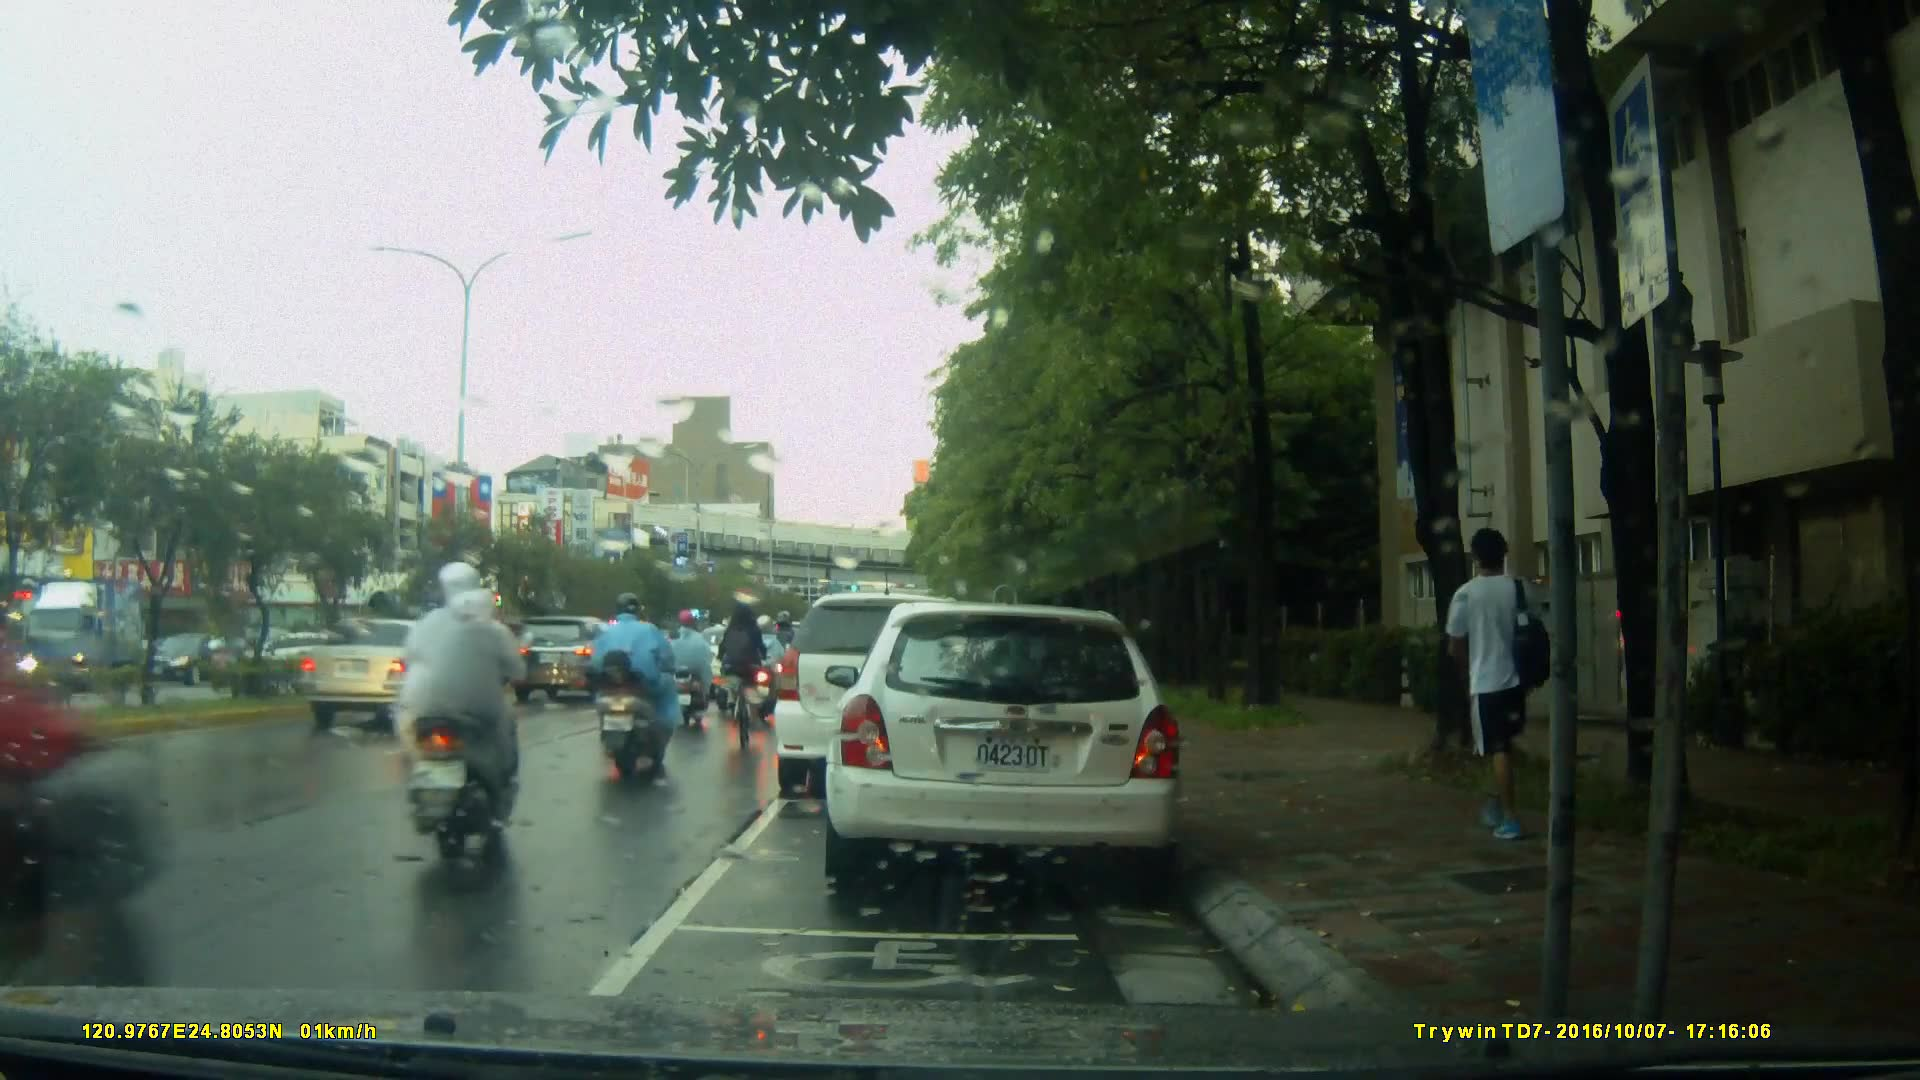pedestrian: (1454, 514, 1566, 874)
rider: (1, 622, 170, 1072), (399, 566, 532, 870), (596, 596, 683, 777), (388, 596, 461, 777), (717, 601, 771, 766), (661, 605, 716, 723), (745, 619, 791, 724), (711, 612, 754, 708)
vehicle: (822, 604, 1188, 882), (774, 595, 995, 802), (295, 616, 473, 730), (20, 576, 161, 697), (509, 615, 634, 705), (144, 630, 241, 686)
